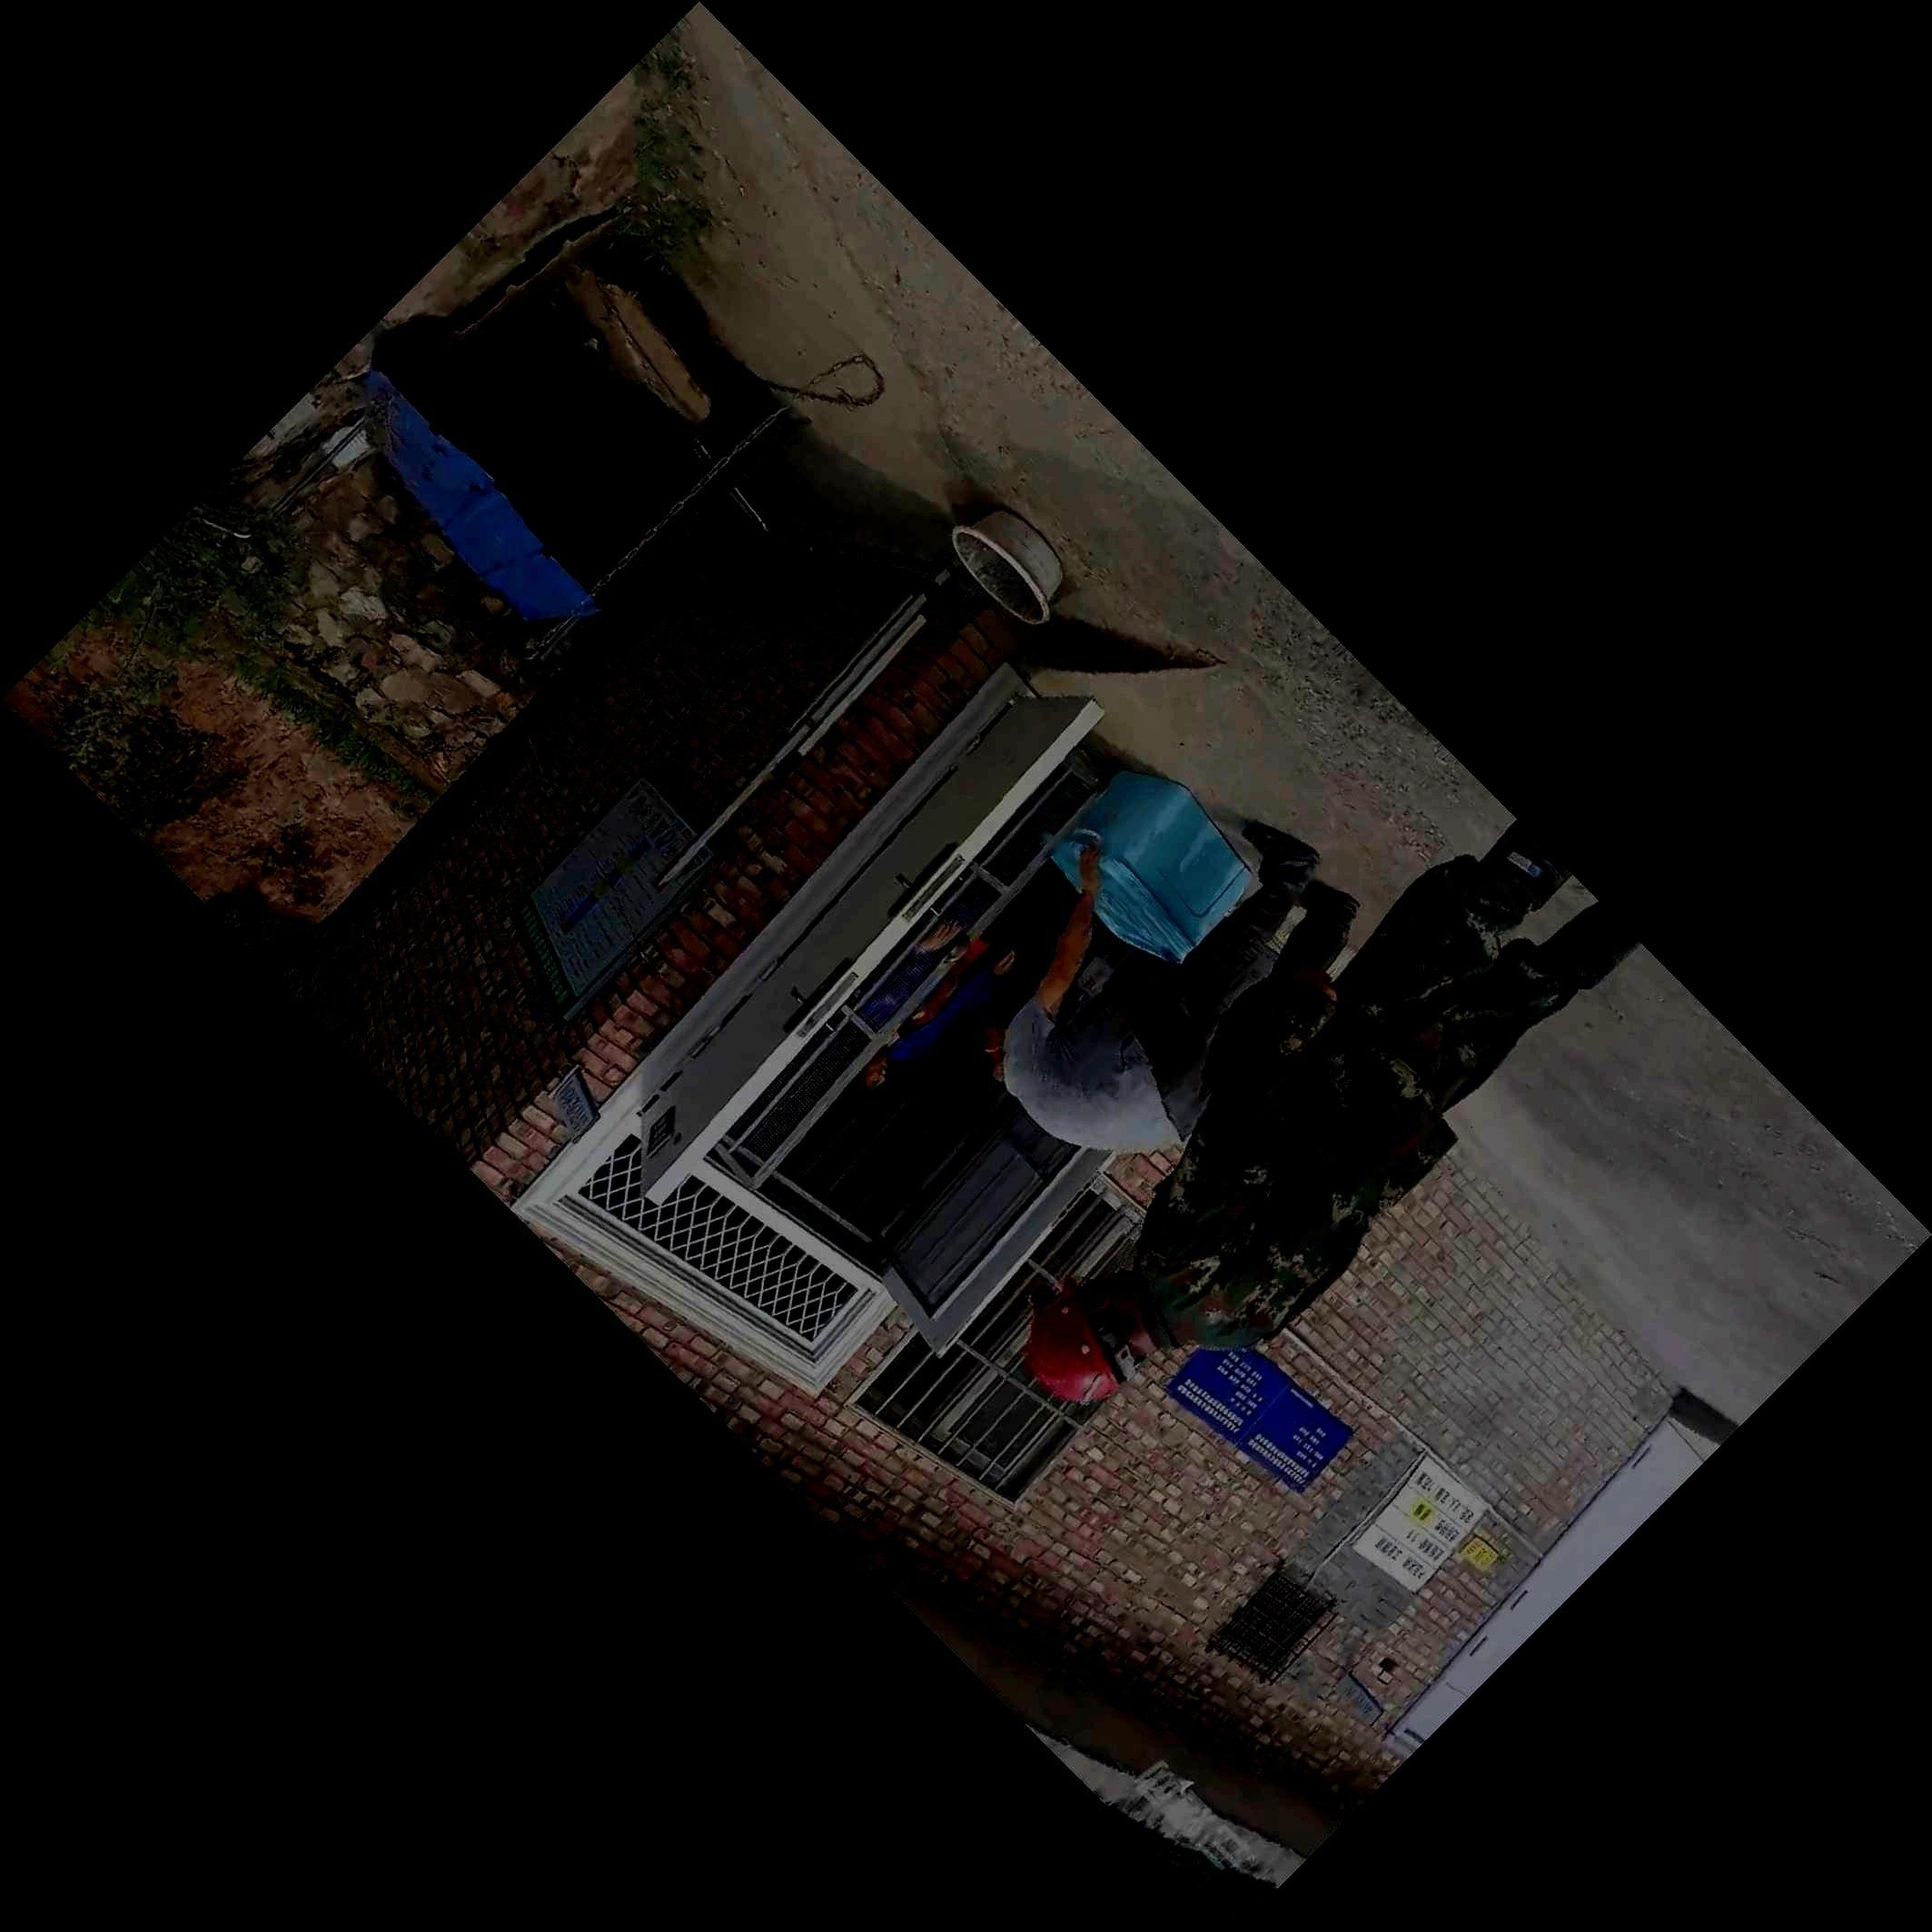helmet: (1023, 1269, 1157, 1407)
